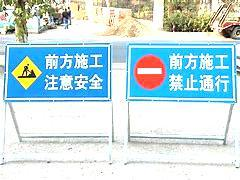sign: (128, 43, 236, 103), (5, 44, 112, 102)
